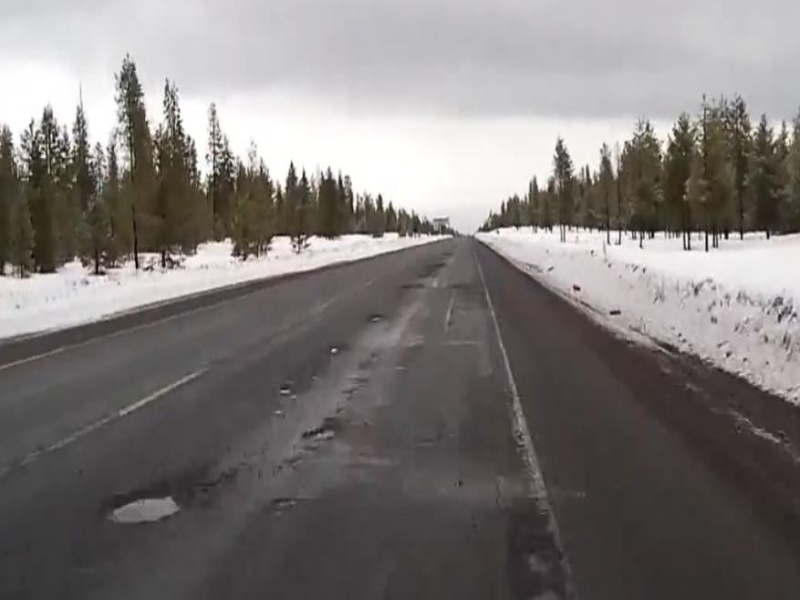pothole: (100, 480, 190, 529), (301, 421, 342, 443)
